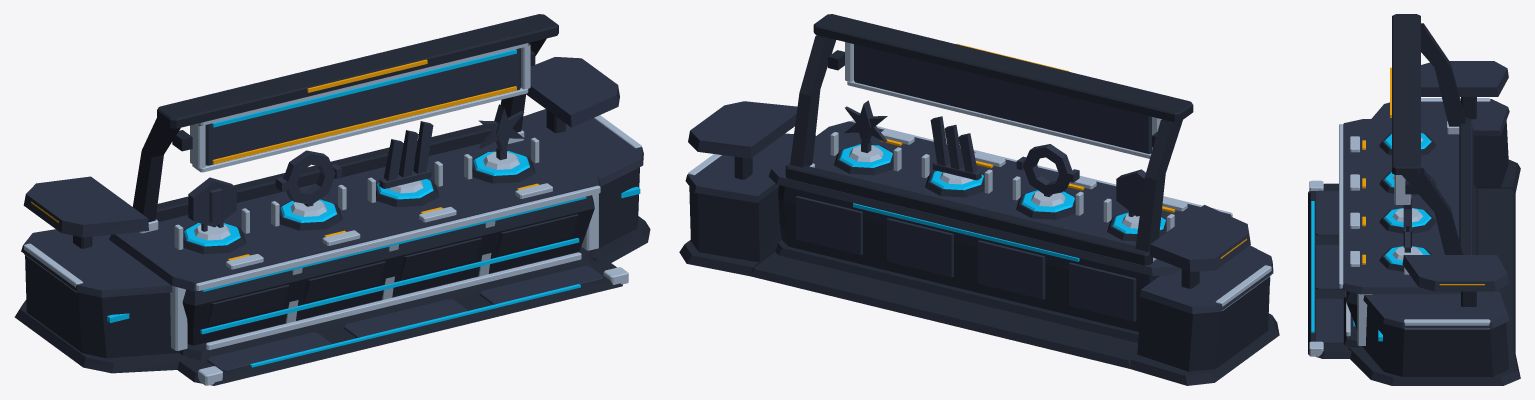
The model's file is SM_Hub_ShopKiosk_01.obj.
3 renders of one model, left to right at view 1: azimuth 30°, elevation 25°; view 2: azimuth 150°, elevation 25°; view 3: azimuth 270°, elevation 25°, orthographic. The views are drawn at different scales.
Visible parts, largest first — view 1: GEO_ShopKiosk_Countertop, GEO_ShopKiosk_Trim, GEO_ShopKiosk_WingShelves, GEO_ShopKiosk_CounterBody, GEO_ShopKiosk_SignFrame, GEO_ShopKiosk_Base, GEO_ShopKiosk_SideWings, GEO_ShopKiosk_SignPanel, GEO_ShopKiosk_CyanAccents, GEO_ShopKiosk_AmberAccents, GEO_ShopKiosk_DisplayItem_03, GEO_ShopKiosk_DisplayItem_02 (+6 smaller); view 2: GEO_ShopKiosk_Countertop, GEO_ShopKiosk_Base, GEO_ShopKiosk_WingShelves, GEO_ShopKiosk_CounterBody, GEO_ShopKiosk_SignFrame, GEO_ShopKiosk_SideWings, GEO_ShopKiosk_SignPanel, GEO_ShopKiosk_Trim, GEO_ShopKiosk_CyanAccents, GEO_ShopKiosk_DisplayItem_03, GEO_ShopKiosk_DisplayItem_02, GEO_ShopKiosk_DisplayItem_01 (+5 smaller); view 3: GEO_ShopKiosk_Countertop, GEO_ShopKiosk_WingShelves, GEO_ShopKiosk_SideWings, GEO_ShopKiosk_Base, GEO_ShopKiosk_SignFrame, GEO_ShopKiosk_Trim, GEO_ShopKiosk_CounterBody, GEO_ShopKiosk_CyanAccents, GEO_ShopKiosk_DisplayPad_03, GEO_ShopKiosk_DisplayItem_04, GEO_ShopKiosk_AmberAccents, GEO_ShopKiosk_DisplayPad_01 (+1 smaller).
Boxes of the visible parts, <box> form: GEO_ShopKiosk_Countertop: <box>109,128,603,371</box>; GEO_ShopKiosk_Trim: <box>24,43,641,385</box>; GEO_ShopKiosk_WingShelves: <box>21,57,643,297</box>; GEO_ShopKiosk_CounterBody: <box>155,124,594,345</box>; GEO_ShopKiosk_SignFrame: <box>132,14,558,222</box>; GEO_ShopKiosk_Base: <box>14,216,650,385</box>; GEO_ShopKiosk_SideWings: <box>25,110,639,358</box>; GEO_ShopKiosk_SignPanel: <box>199,48,520,165</box>; GEO_ShopKiosk_CyanAccents: <box>107,49,640,367</box>; GEO_ShopKiosk_AmberAccents: <box>31,59,538,260</box>; GEO_ShopKiosk_DisplayItem_03: <box>379,121,433,188</box>; GEO_ShopKiosk_DisplayItem_02: <box>275,150,342,206</box>; GEO_ShopKiosk_Countertop: <box>768,121,1231,321</box>; GEO_ShopKiosk_Base: <box>679,240,1279,385</box>; GEO_ShopKiosk_WingShelves: <box>685,101,1273,314</box>; GEO_ShopKiosk_CounterBody: <box>778,163,1159,331</box>; GEO_ShopKiosk_SignFrame: <box>790,14,1193,251</box>; GEO_ShopKiosk_SideWings: <box>689,156,1269,371</box>; GEO_ShopKiosk_SignPanel: <box>854,44,1151,153</box>; GEO_ShopKiosk_Trim: <box>688,42,1271,310</box>; GEO_ShopKiosk_CyanAccents: <box>839,144,1270,281</box>; GEO_ShopKiosk_DisplayItem_03: <box>930,116,981,180</box>; GEO_ShopKiosk_DisplayItem_02: <box>1016,144,1079,196</box>; GEO_ShopKiosk_DisplayItem_01: <box>1116,169,1145,216</box>; GEO_ShopKiosk_Countertop: <box>1315,119,1473,343</box>; GEO_ShopKiosk_WingShelves: <box>1363,61,1509,328</box>; GEO_ShopKiosk_SideWings: <box>1363,97,1508,376</box>; GEO_ShopKiosk_Base: <box>1308,159,1520,385</box>; GEO_ShopKiosk_SignFrame: <box>1392,14,1465,254</box>; GEO_ShopKiosk_Trim: <box>1309,98,1490,356</box>; GEO_ShopKiosk_CounterBody: <box>1346,117,1471,329</box>; GEO_ShopKiosk_CyanAccents: <box>1311,133,1431,341</box>; GEO_ShopKiosk_DisplayPad_03: <box>1379,207,1436,233</box>; GEO_ShopKiosk_DisplayItem_04: <box>1403,209,1411,252</box>; GEO_ShopKiosk_AmberAccents: <box>1362,67,1484,285</box>; GEO_ShopKiosk_DisplayPad_01: <box>1379,133,1436,155</box>.
Size of the model in its own units: 20 by 7.6 by 8.
Materials: 5 (5 with a texture image).
